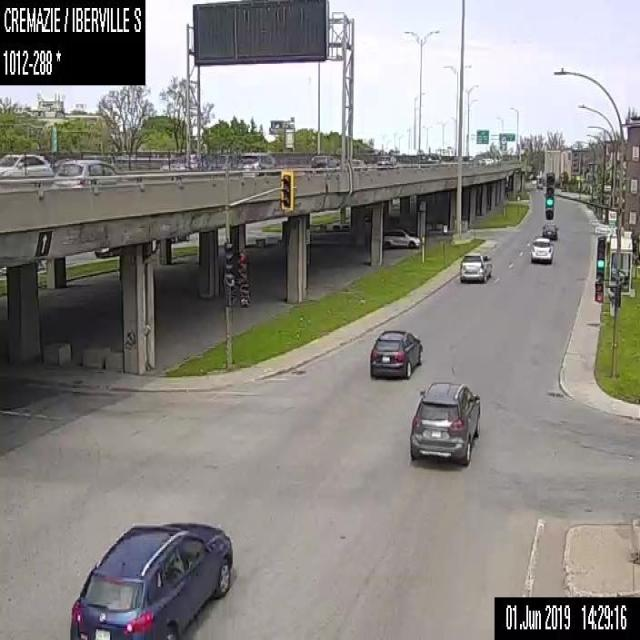vehicle: (68, 518, 232, 638), (408, 380, 482, 467), (368, 325, 422, 379), (51, 157, 128, 185), (0, 152, 54, 179), (458, 252, 492, 283), (237, 150, 282, 173), (383, 225, 422, 248), (162, 151, 204, 169), (530, 236, 553, 261), (311, 153, 338, 167), (542, 222, 558, 240), (376, 155, 396, 165), (352, 158, 367, 171), (478, 157, 488, 165), (486, 157, 493, 164), (536, 181, 542, 188)
